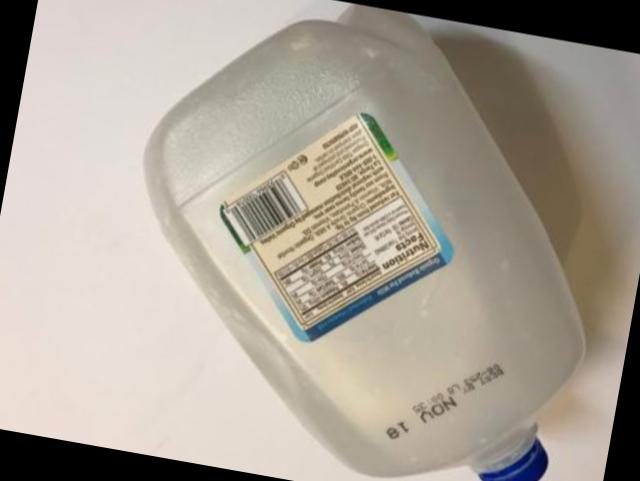plastic: (143, 2, 582, 481)
